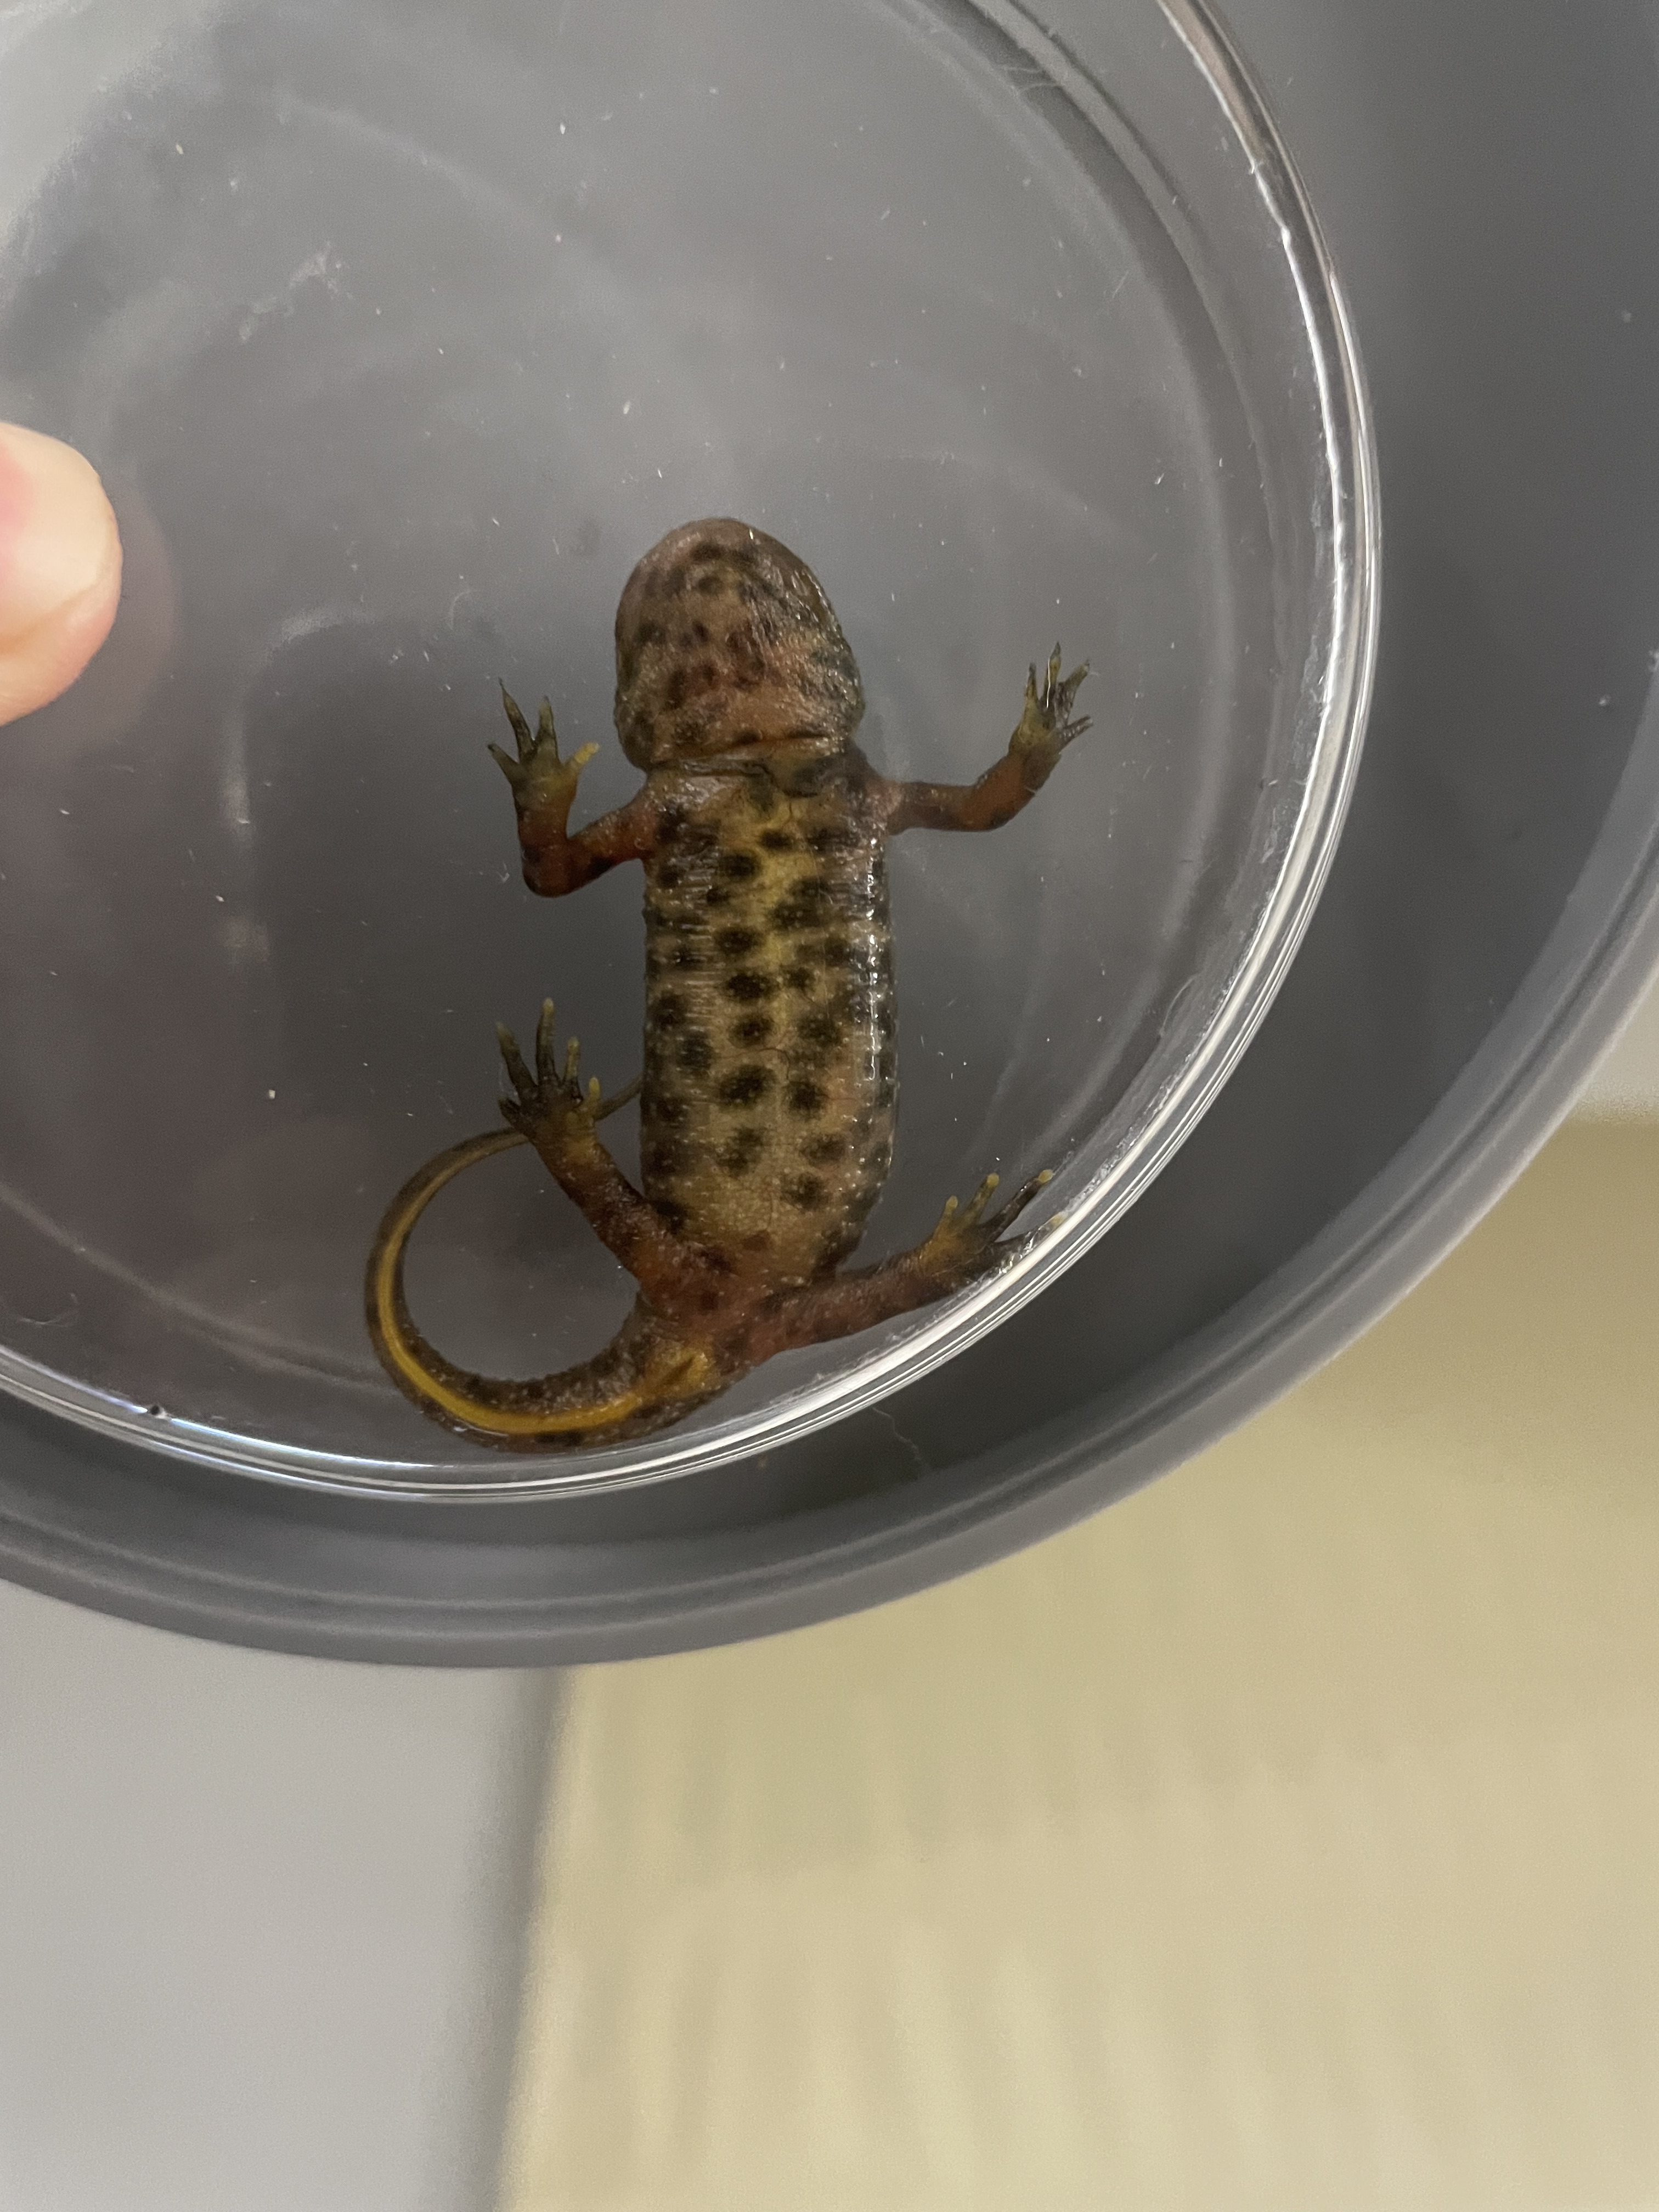newt_ribbed: (643, 840, 897, 1282)
